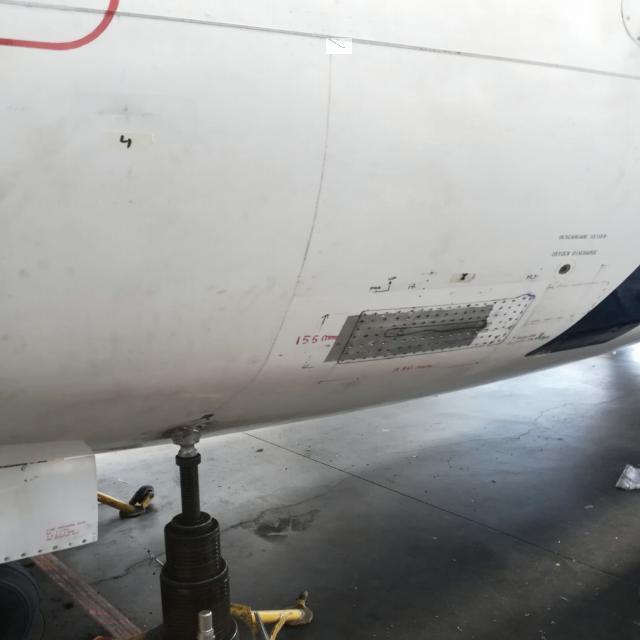crack: (327, 39, 353, 55)
